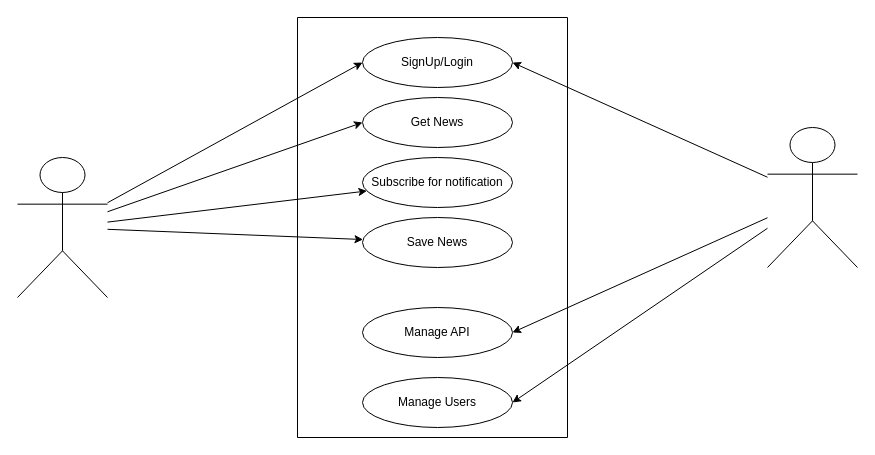
This 875x455 diagram has some shape labels left out. Each missing label, with the centre of its shape:
Admin: (x=812, y=197)
User: (x=62, y=227)
